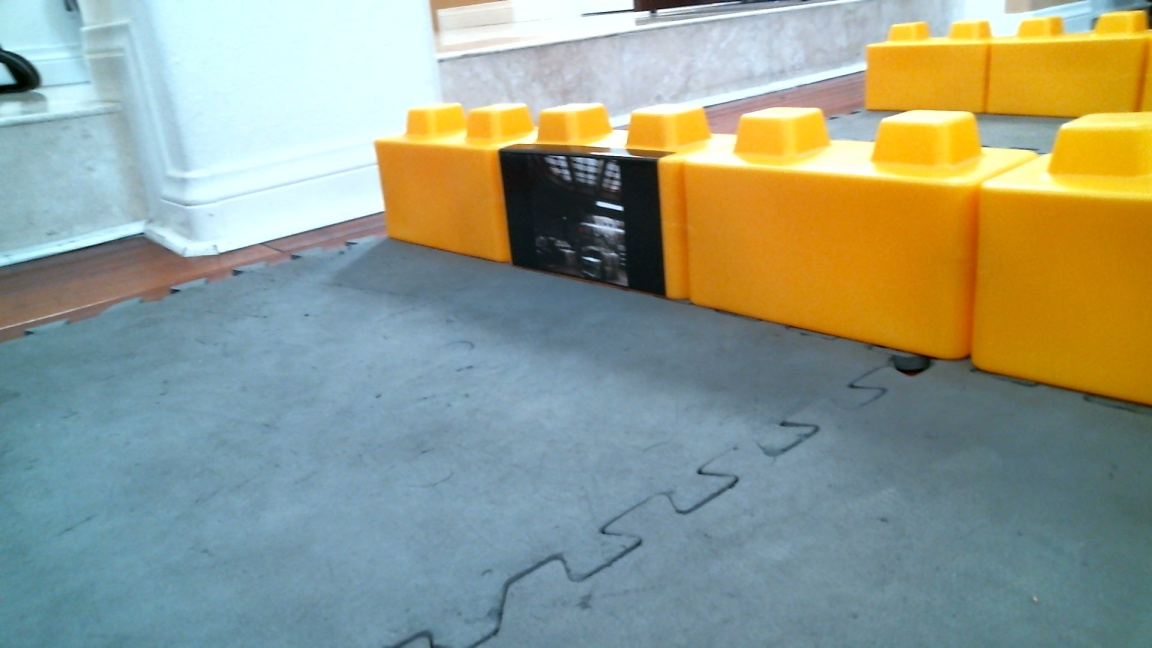skystone: (494, 104, 689, 299)
stone: (678, 106, 998, 358), (971, 110, 1152, 400), (344, 106, 491, 253)
